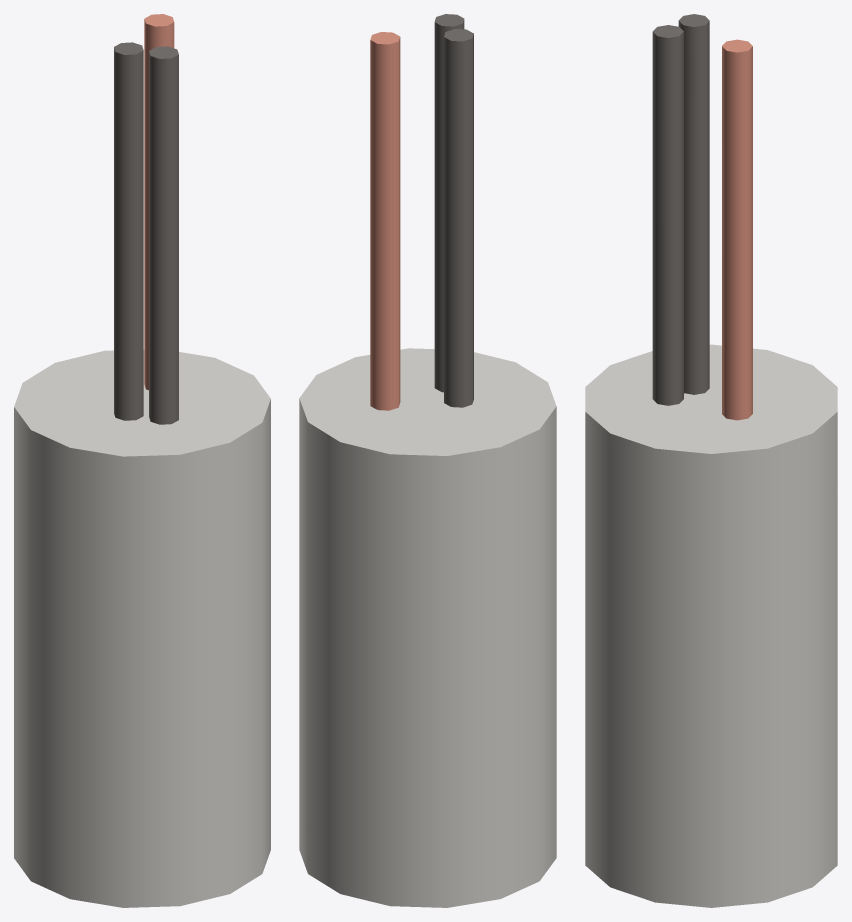
The model's file is mundane_umbrella_stand.glb.
3 views of the same model, side by side, from view 1: azimuth 30°, elevation 25°; view 2: azimuth 150°, elevation 25°; view 3: azimuth 270°, elevation 25° (orthographic).
Size of the model in its own units: 0.3 by 1.05 by 0.2925.
